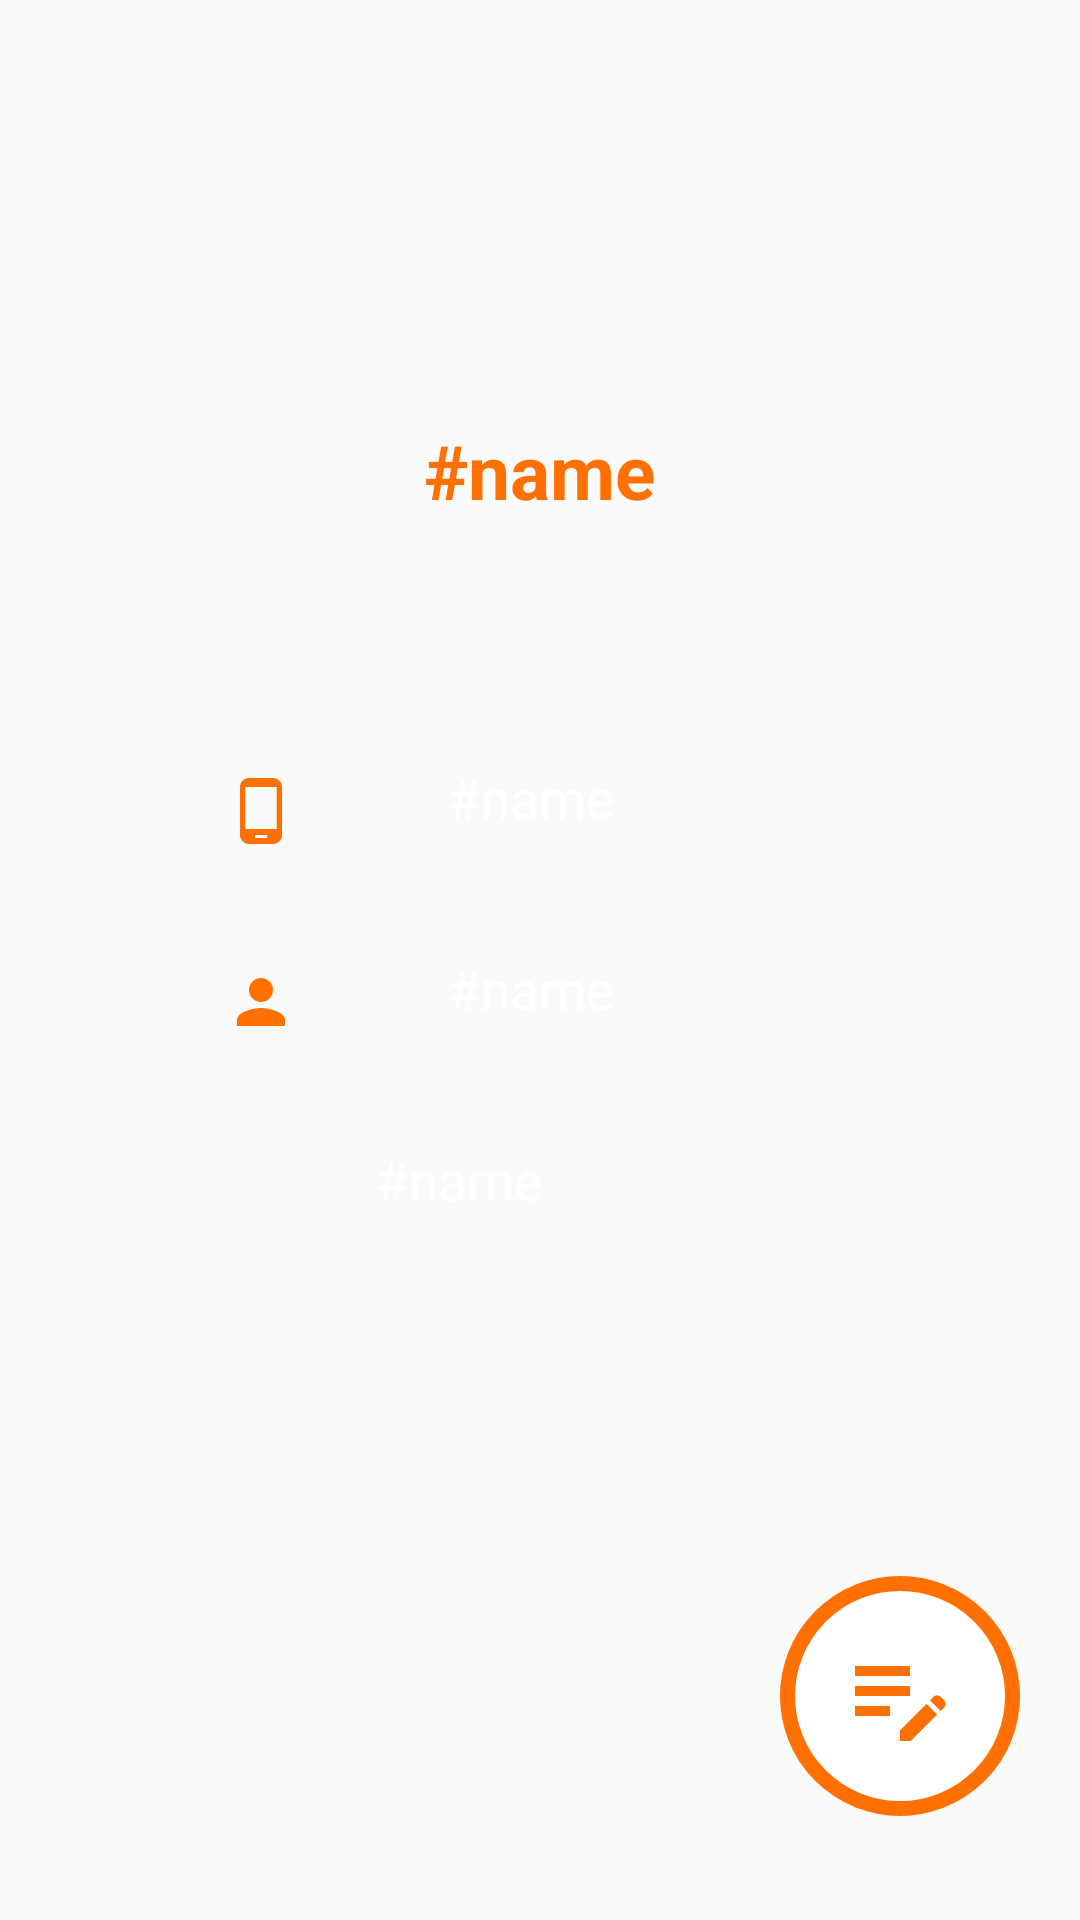

Locate icon controls on the screen. Image size 1080px x 1920px, boxes as (x1, y1, x2, y2).
changeinformation: (780, 1576, 1020, 1816)
